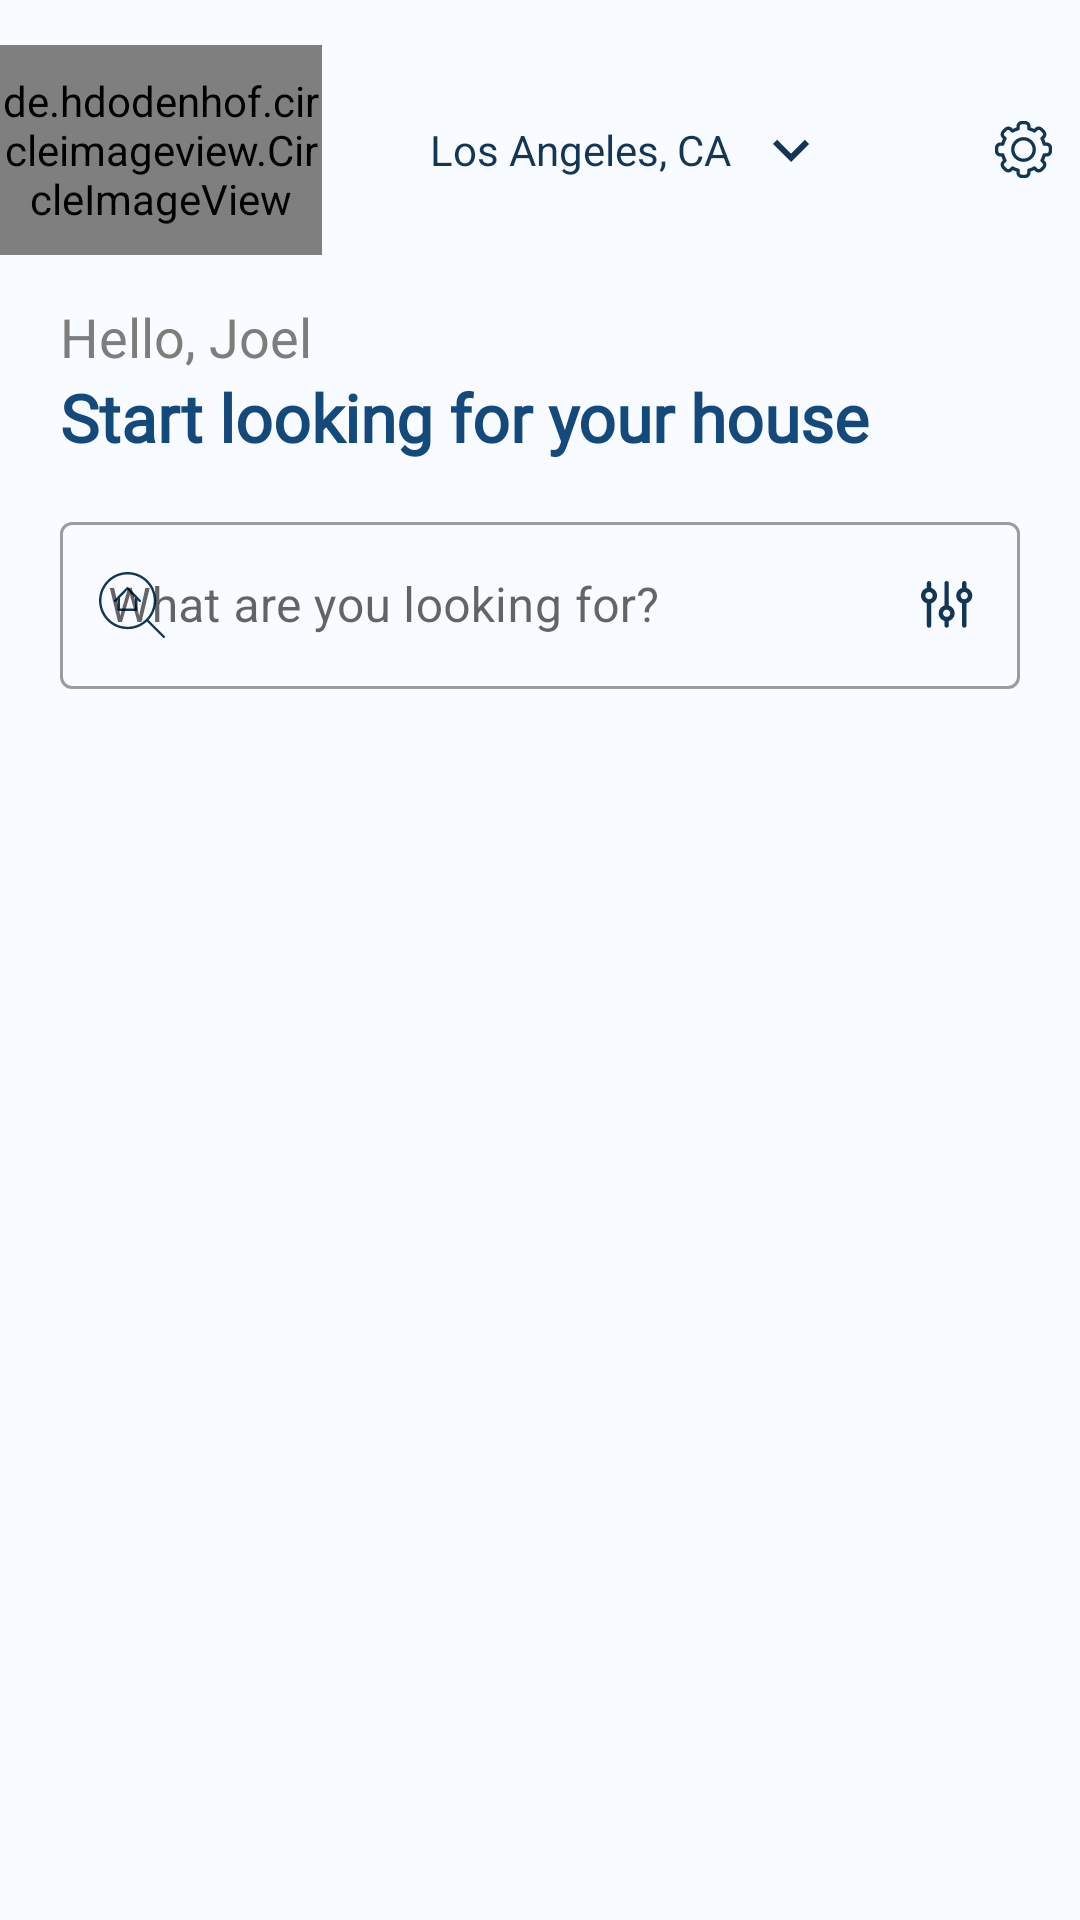

Where to tap for icons on this 1080×1920 app screen, as point (x, y):
down: point (791, 151)
settings: point (1023, 149)
